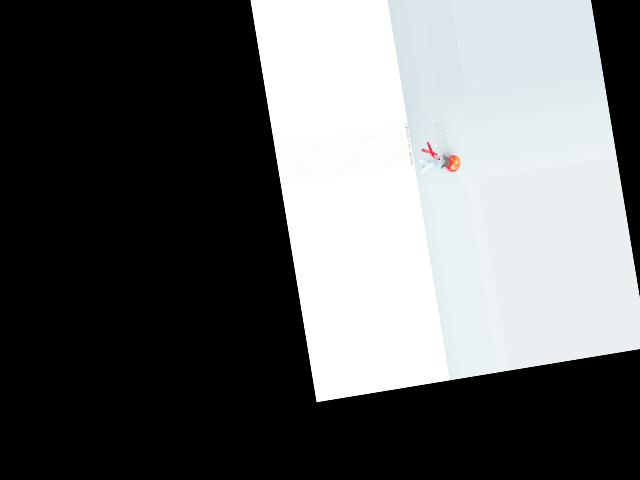tomato: (442, 153, 461, 172)
